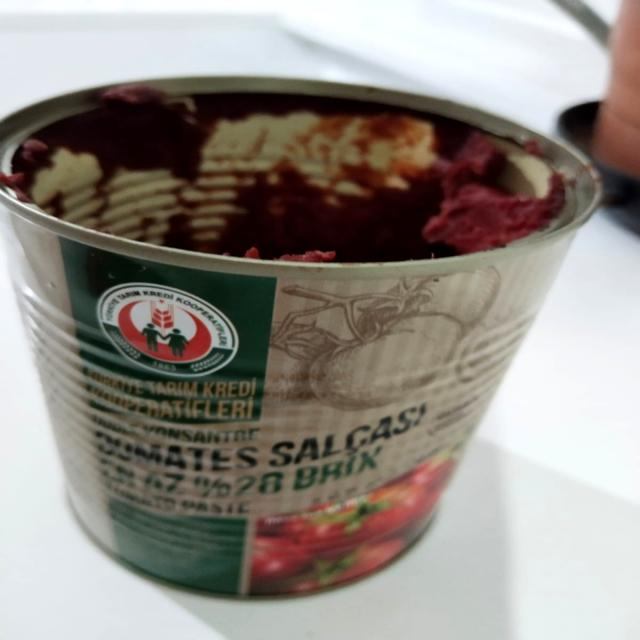tomato paste: (9, 85, 587, 591)
